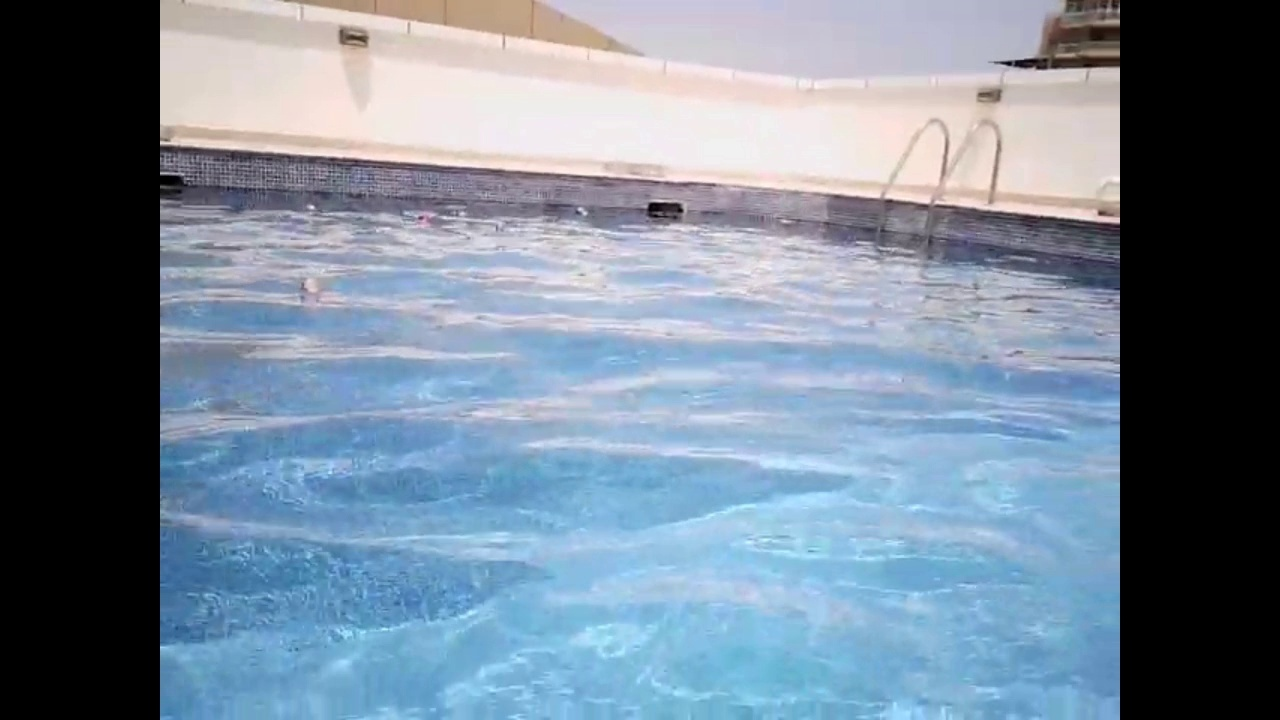debris: (297, 273, 322, 299), (570, 203, 593, 222), (402, 208, 428, 223), (304, 200, 321, 216)
